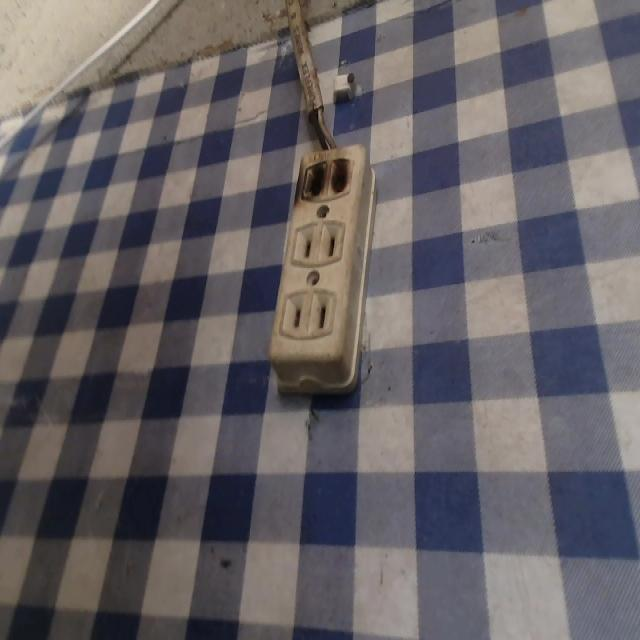-: (295, 151, 357, 201)
